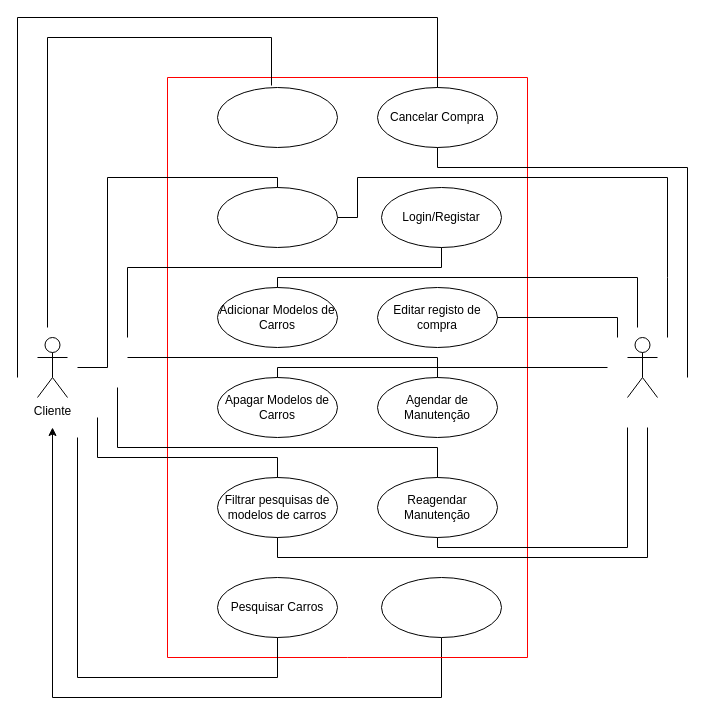
This 706x723 diagram has some shape labels left out. The shapes that lost their labels are listed below. From the top down, each one's centre as x and y in pixels, then its label:
pixel 277 117: Visualizar Modelos
pixel 277 217: Solicitar Compra
pixel 642 367: Colaborador
pixel 441 607: Notificar Sucesso de compra
